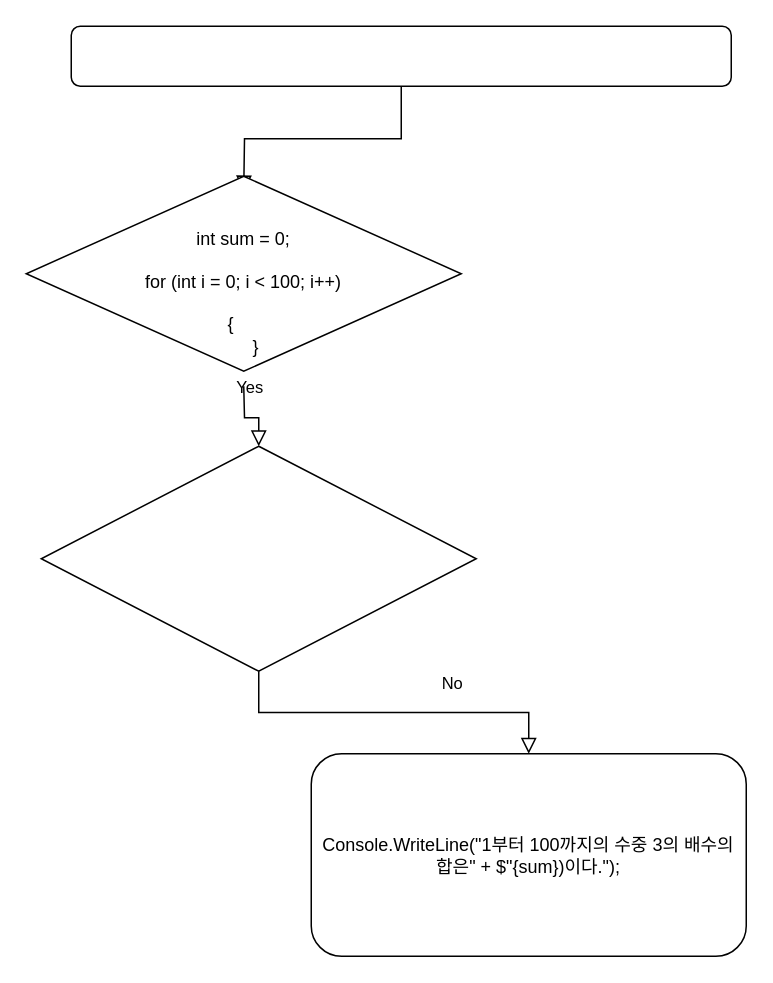
Some shapes in this 773 by 983 pixel diagram are drawn without their labels. The box of each missing label's shape, as (x1, y1, x2, y2) in pixels:
1번문제: 1에서 100까지 수 중 3의 배수의 합을 구하시오.: (70, 25, 731, 86)
if(i%3 ==0) sum+=i;: (40, 445, 476, 671)
